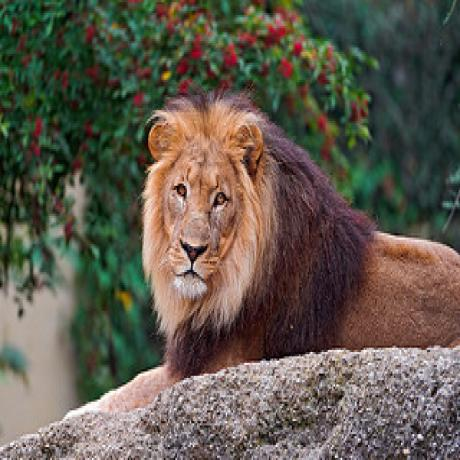Lion: (141, 86, 460, 371)
